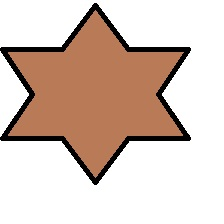star: (1, 4, 190, 185)
